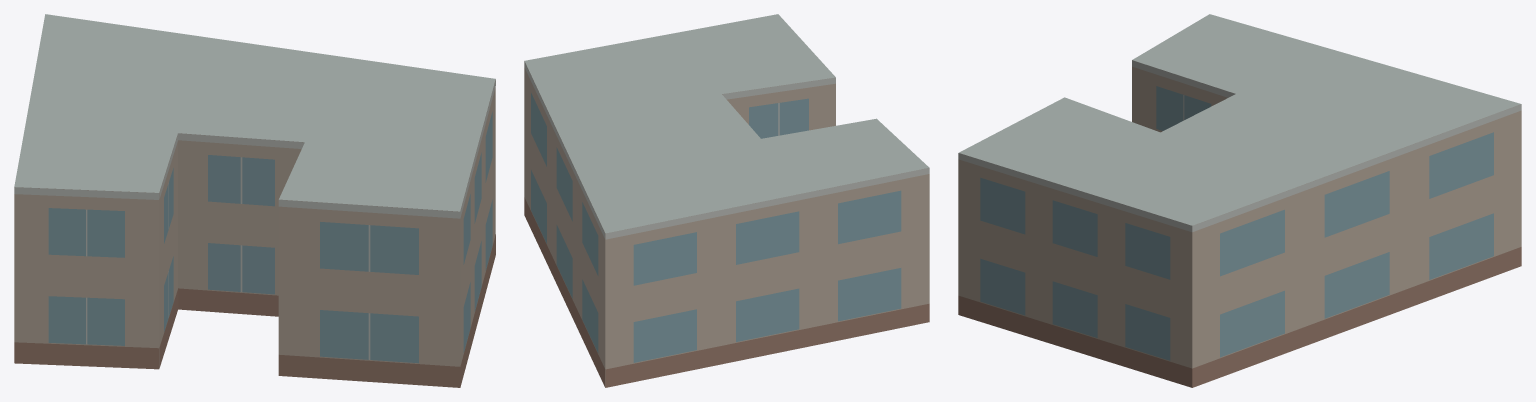
File: survey-upis-32756940.glb
3 renders of one model, left to right at view 1: azimuth 30°, elevation 25°; view 2: azimuth 150°, elevation 25°; view 3: azimuth 270°, elevation 25°, orthographic. The views are drawn at different scales.
Visible parts, largest first — view 1: survey-upis-32756940.tmp; view 2: survey-upis-32756940.tmp; view 3: survey-upis-32756940.tmp.
Boxes of the visible parts, x1,y1,x2,y2 form: survey-upis-32756940.tmp: (14,14,495,387); survey-upis-32756940.tmp: (524,14,929,387); survey-upis-32756940.tmp: (958,14,1521,387).
Bounding box in the file's own units: 17.1 × 6.1 × 19.21.
